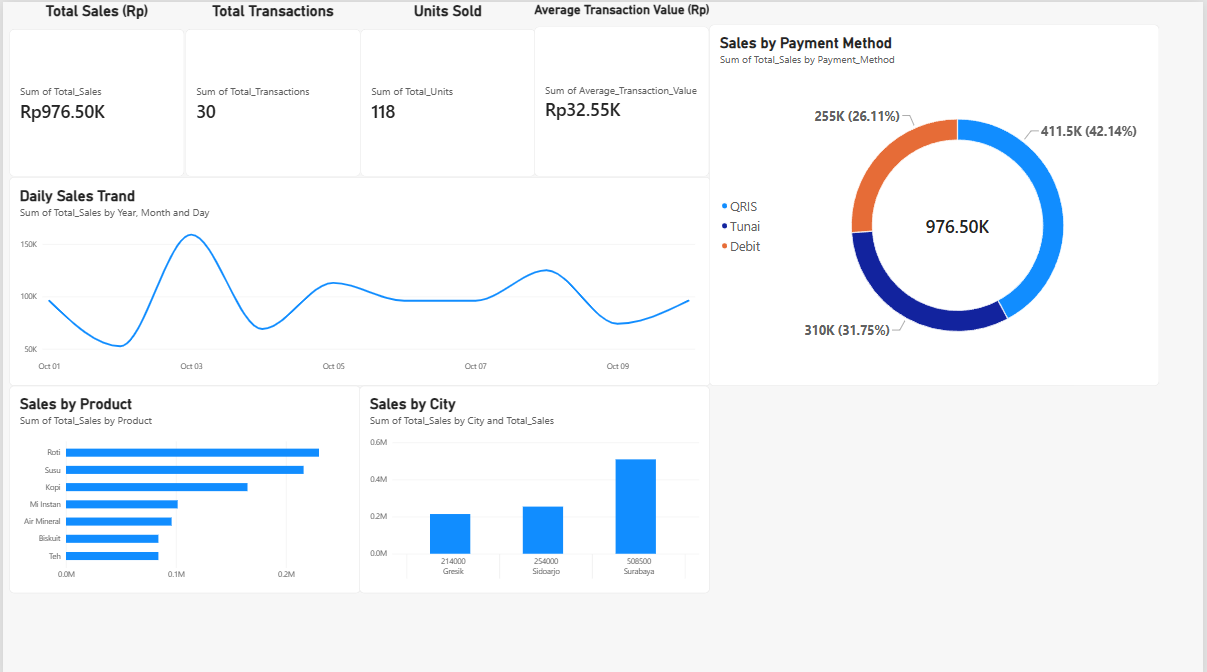

What the dashboard file says about the page in this screenshot:
{"tool":"powerbi","page":{"name":"Page 1","canvas":[1920,1080],"ordinal":0},"visuals":[{"type":"cardVisual","title":"Total Sales (Rp)","fields":{"Data":["Sum(vw_SalesKPI.Total_Sales)"]},"box":[10,0,280,280],"z":0},{"type":"cardVisual","title":"Total Transactions","fields":{"Data":["Sum(vw_SalesKPI.Total_Transactions)"]},"box":[291.4,0,280,280],"z":1000},{"type":"cardVisual","title":"Units Sold","fields":{"Data":["Sum(vw_SalesKPI.Total_Units)"]},"box":[571.9,0,280,280],"z":2000},{"type":"cardVisual","title":"Average Transaction Value (Rp)","fields":{"Data":["Sum(vw_SalesKPI.Average_Transaction_Value)"]},"box":[850,0,280,280],"z":3000},{"type":"textbox","box":[10,580,280,280],"z":4000},{"type":"lineChart","title":"Daily Sales Trand","fields":{"Category":["vw_DailySales.Date.Variation.Date Hierarchy.Year","vw_DailySales.Date.Variation.Date Hierarchy.Month","vw_DailySales.Date.Variation.Date Hierarchy.Day"],"Y":["Sum(vw_DailySales.Total_Sales)"]},"box":[10,280,1122,334],"z":4001},{"type":"clusteredBarChart","title":"Sales by Product","fields":{"Category":["vw_ProductSales.Product"],"Y":["Sum(vw_ProductSales.Total_Sales)"]},"box":[10,614,562,332],"z":4002},{"type":"clusteredColumnChart","title":"Sales by City","fields":{"Category":["vw_CitySales.City","vw_CitySales.Total_Sales"],"Y":["Sum(vw_CitySales.Total_Sales)"]},"box":[570,614,561,332],"z":4003},{"type":"donutChart","title":"Sales by Payment Method","fields":{"Category":["vw_PaymentSales.Payment_Method"],"Y":["Sum(vw_PaymentSales.Total_Sales)"]},"box":[1130,36,720,578],"z":4004}]}

Visuals, with their boxes in screenshot pixels (x1, y1, x2, y2), scaled from the page's 1920x1080 canvas onto the 1207x672 screenshot:
"Total Sales (Rp)" cardVisual: 6,0,182,174
"Total Transactions" cardVisual: 183,0,359,174
"Units Sold" cardVisual: 360,0,536,174
"Average Transaction Value (Rp)" cardVisual: 534,0,710,174
textbox: 6,361,182,535
"Daily Sales Trand" lineChart: 6,174,712,382
"Sales by Product" clusteredBarChart: 6,382,360,589
"Sales by City" clusteredColumnChart: 358,382,711,589
"Sales by Payment Method" donutChart: 710,22,1163,382
